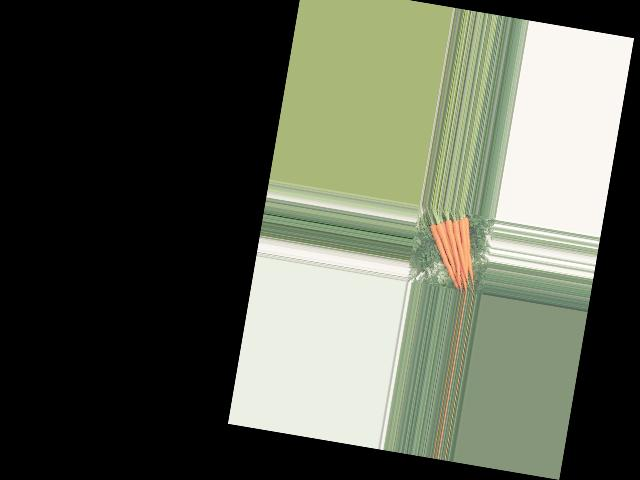carrot: (448, 214, 487, 289)
